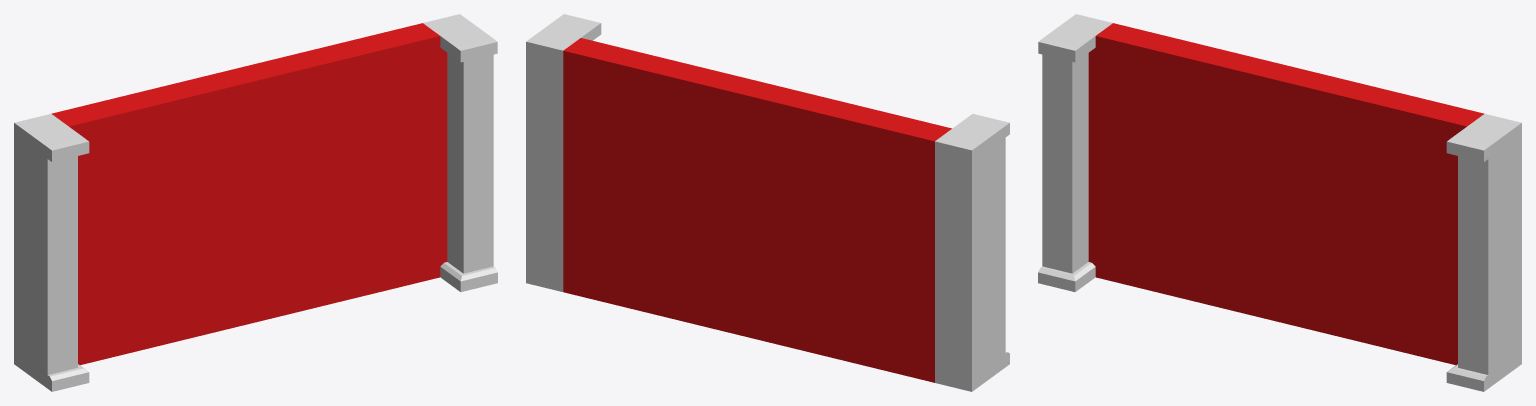
The model's file is Wall 1.fbx.
The picture shows the model from 3 angles, left to right: view 1: azimuth 30°, elevation 25°; view 2: azimuth 150°, elevation 25°; view 3: azimuth 330°, elevation 25°; orthographic projection.
Visible parts, largest first — view 1: Wall; view 2: Wall; view 3: Wall.
Boxes of the visible parts, left/top/right/bottom form: Wall: left=14, top=14, right=497, bottom=391; Wall: left=526, top=14, right=1009, bottom=391; Wall: left=1038, top=14, right=1521, bottom=391.
Size of the model in its own units: 552 by 286 by 81.29.
